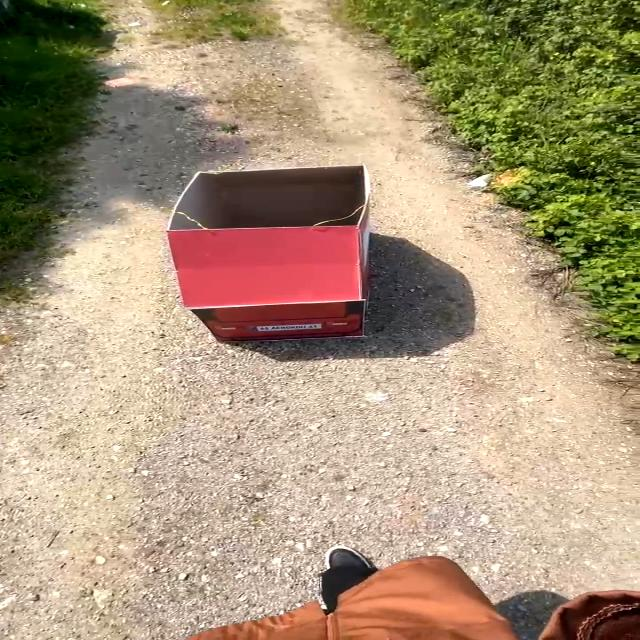red_car: (150, 164, 432, 354)
